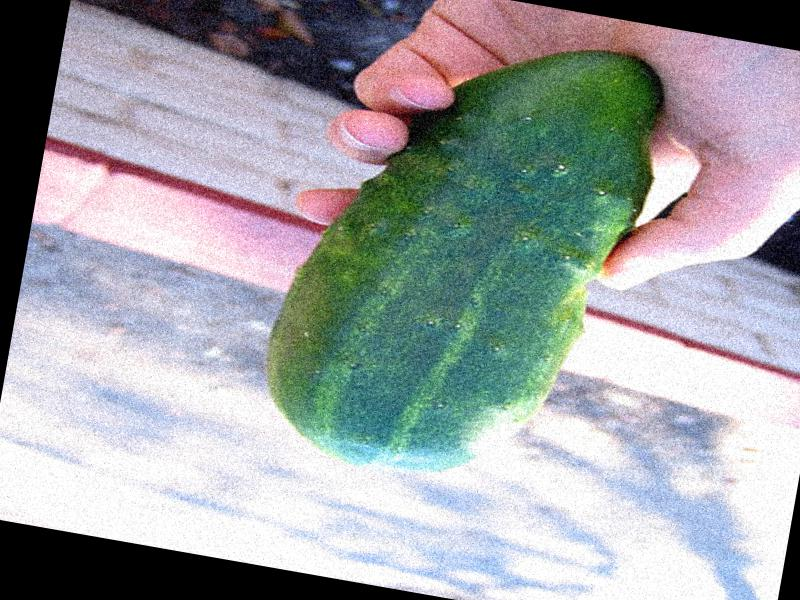Cucumber: (248, 2, 669, 503)
